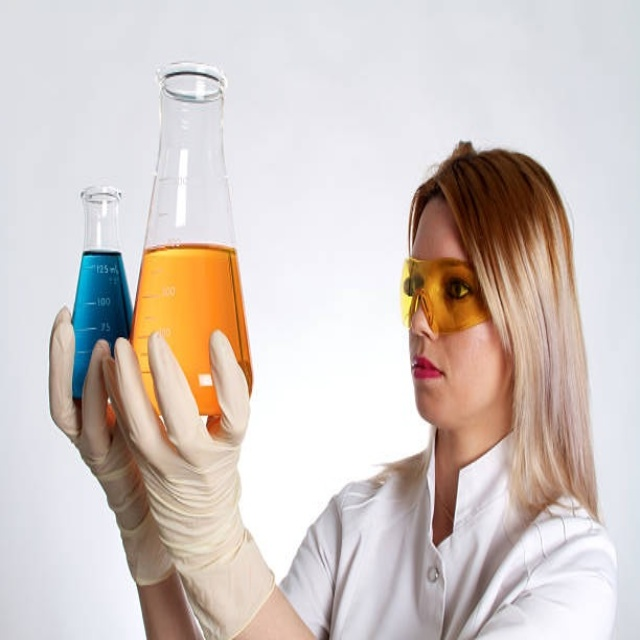Gafas: (400, 257, 491, 335)
Guantes: (101, 325, 281, 626), (50, 302, 174, 587)
Sin_mascara: (408, 347, 457, 413)
